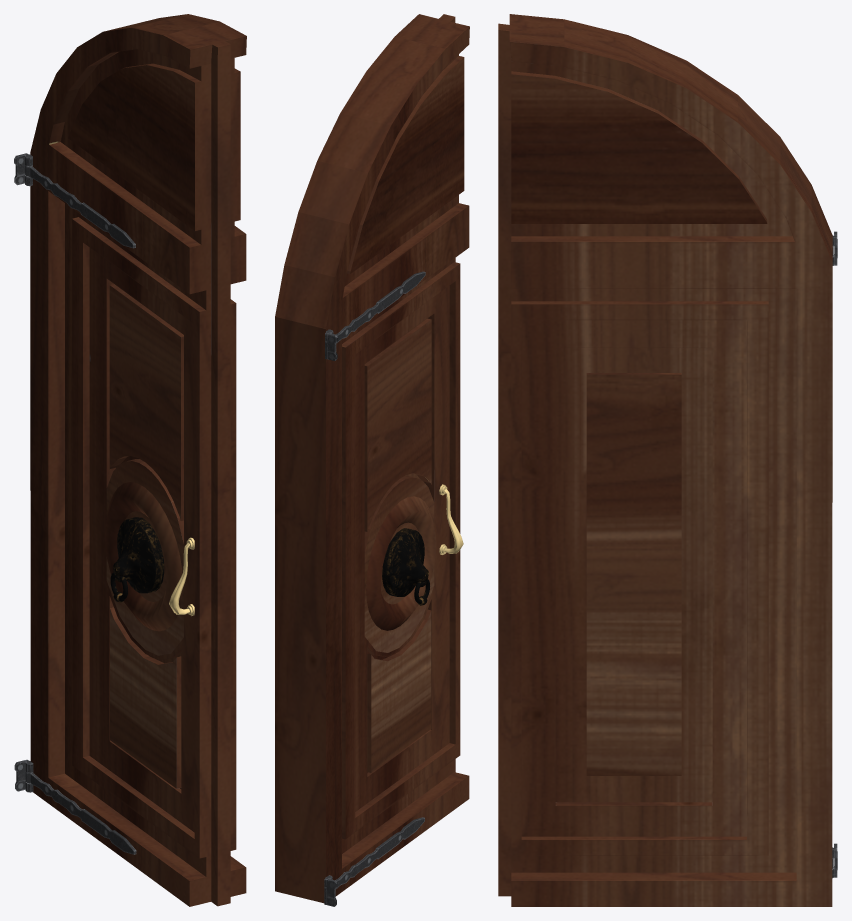
Rendered from puerta izq.obj.
The picture shows the model from 3 angles, left to right: view 1: azimuth 30°, elevation 25°; view 2: azimuth 150°, elevation 25°; view 3: azimuth 270°, elevation 25°; orthographic projection. The views are drawn at different scales.
Parts seen in each view (by area): view 1: Door_left.001_Door.001; view 2: Door_left.001_Door.001; view 3: Door_left.001_Door.001.
Boxes of the visible parts, x1,y1,x2,y2 form: Door_left.001_Door.001: (14,14,246,906); Door_left.001_Door.001: (275,14,469,906); Door_left.001_Door.001: (498,14,837,906).
Bounding box in the file's own units: 0.368 × 4.26 × 1.51.
